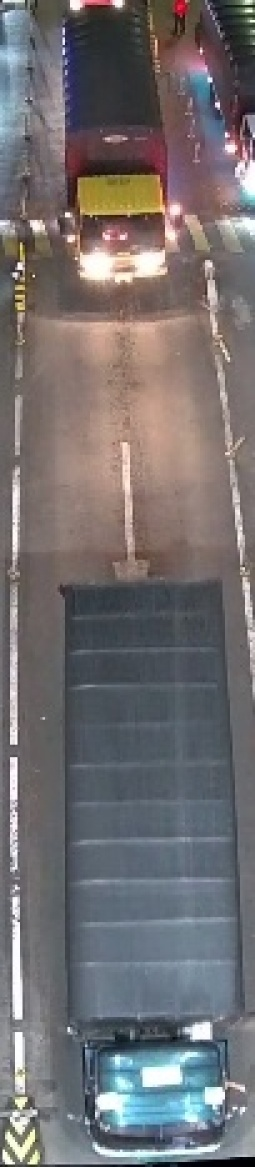truck: (40, 569, 253, 1162), (54, 7, 167, 303), (192, 1, 252, 203)
